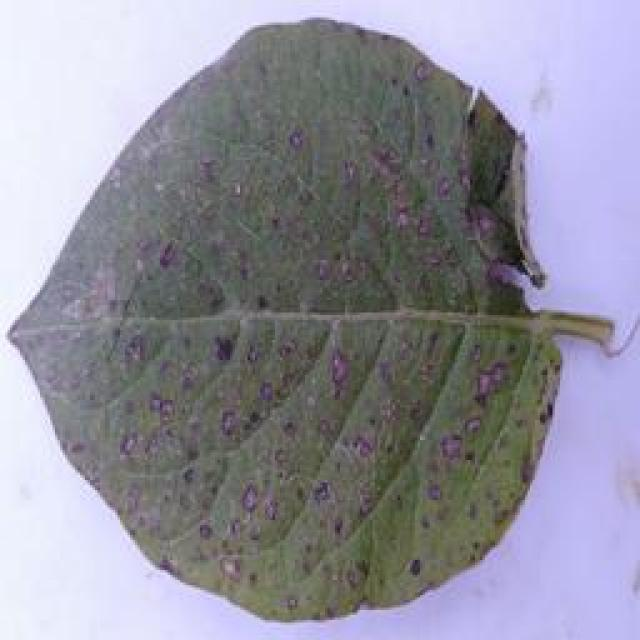Potato_Early_Blight: (2, 6, 630, 632)
